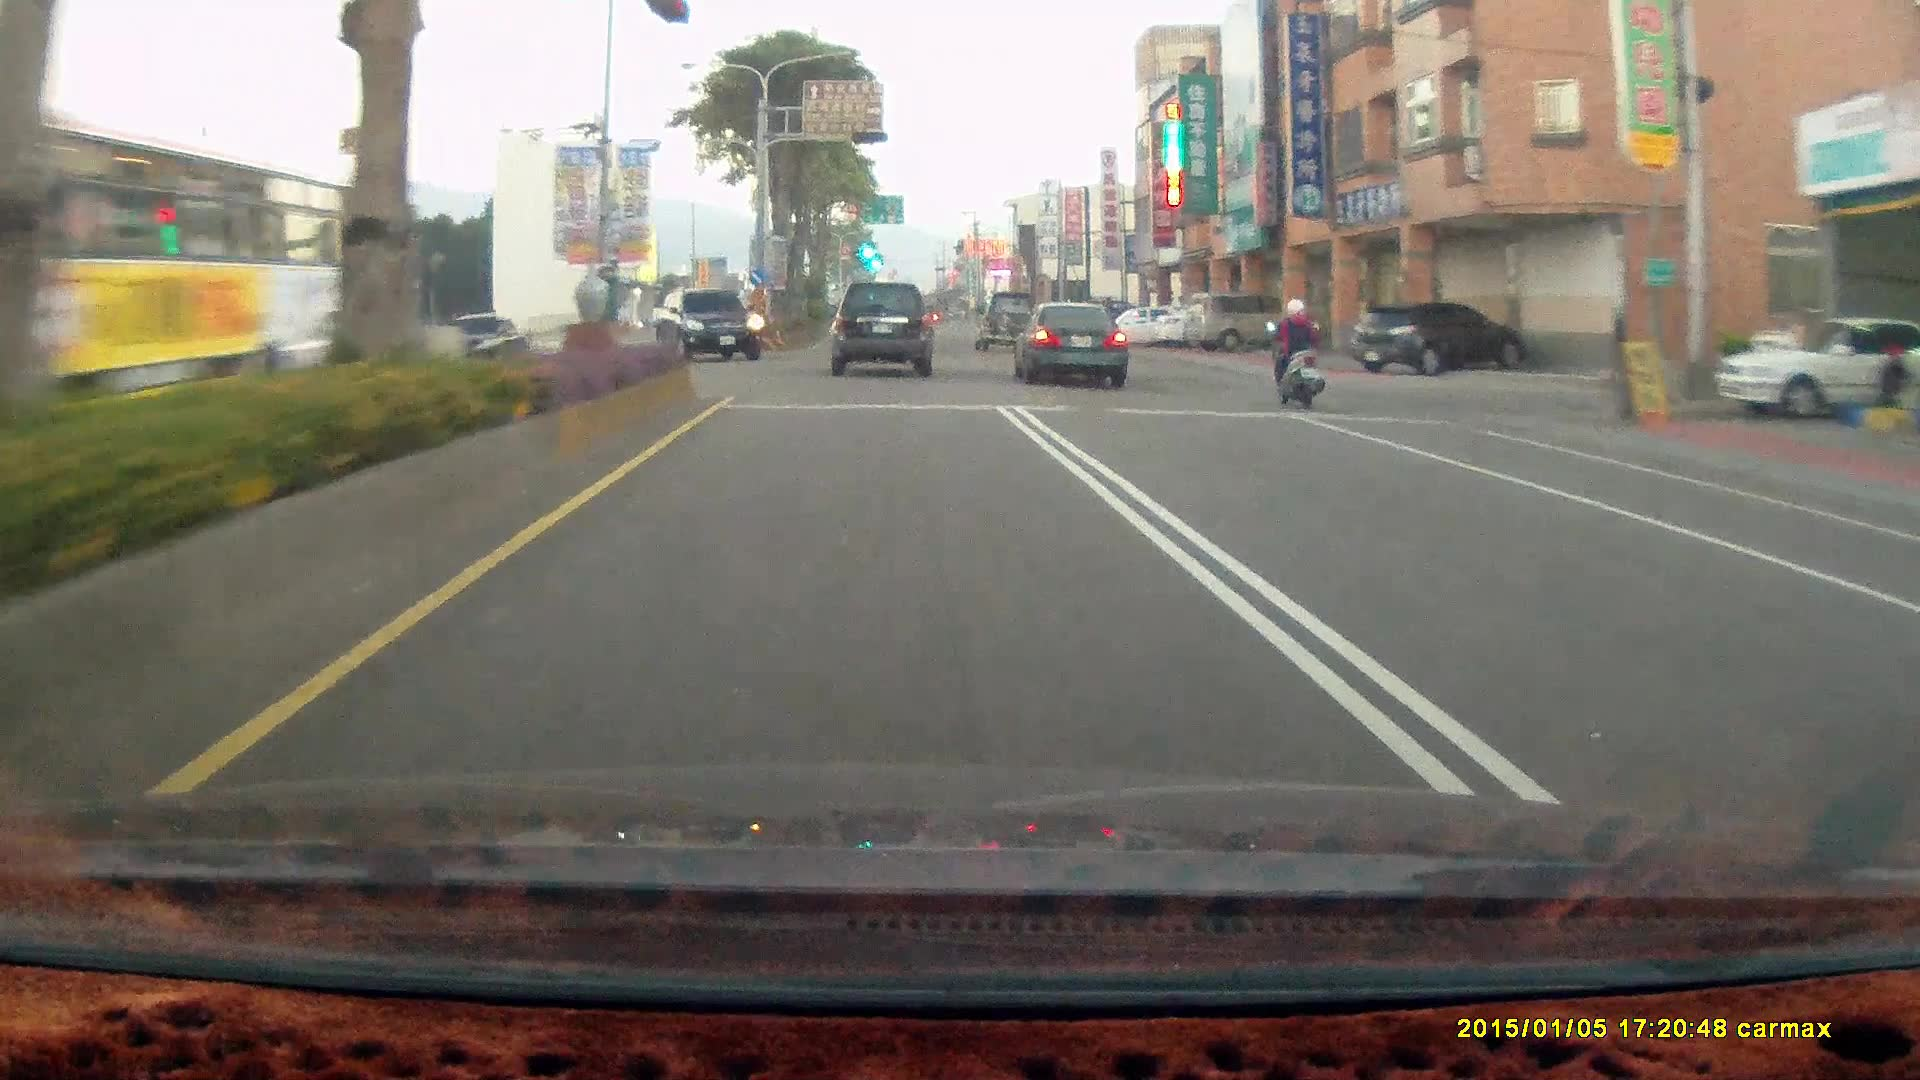pedestrian: (1877, 341, 1910, 418)
rider: (1256, 286, 1337, 422), (1267, 299, 1326, 409)
vehicle: (1, 107, 374, 432), (1712, 312, 1917, 419), (1717, 319, 1920, 420), (1347, 302, 1528, 376), (1351, 301, 1526, 373), (1011, 299, 1130, 386), (828, 281, 935, 377), (1009, 299, 1128, 385), (828, 278, 931, 373), (654, 292, 765, 366), (653, 287, 763, 360), (1180, 293, 1292, 351), (1179, 295, 1289, 353), (427, 310, 526, 372), (1098, 302, 1192, 347), (972, 289, 1039, 351)
